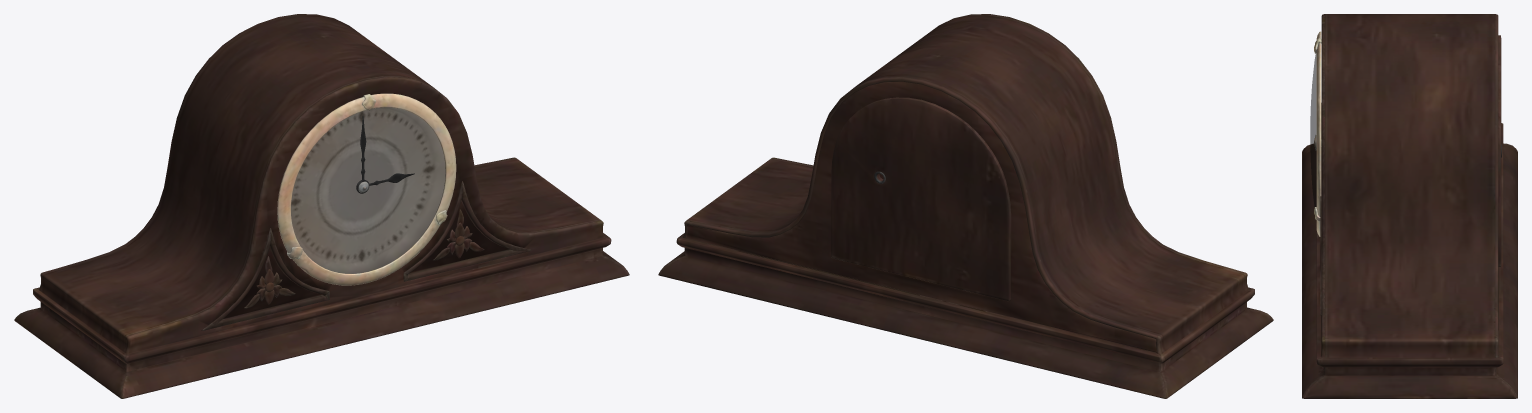
Rendered from mantel_clock_01.glb.
3 renders of one model, left to right at view 1: azimuth 30°, elevation 25°; view 2: azimuth 150°, elevation 25°; view 3: azimuth 270°, elevation 25°, orthographic.
Parts seen in each view (by area): view 1: mantel_clock_01, mantel_clock_01_glass; view 2: mantel_clock_01; view 3: mantel_clock_01, mantel_clock_01_glass.
Boxes of the visible parts, bbox=[...] form: mantel_clock_01: bbox=[14, 14, 629, 398]; mantel_clock_01_glass: bbox=[291, 107, 445, 273]; mantel_clock_01: bbox=[658, 14, 1273, 398]; mantel_clock_01: bbox=[1302, 14, 1517, 398]; mantel_clock_01_glass: bbox=[1310, 53, 1316, 206].
Size of the model in its own units: 0.3423 by 0.1605 by 0.126.
Materials: 2 (2 with a texture image).
